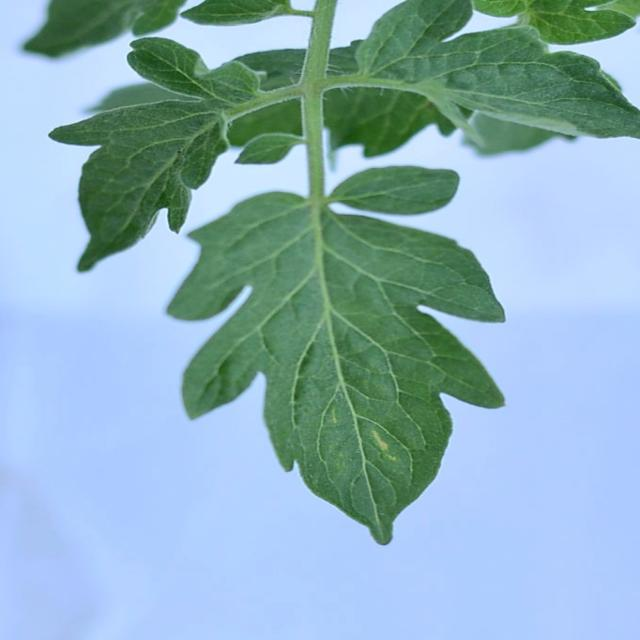healthy: (162, 165, 523, 548), (4, 31, 260, 275), (347, 0, 640, 159)
